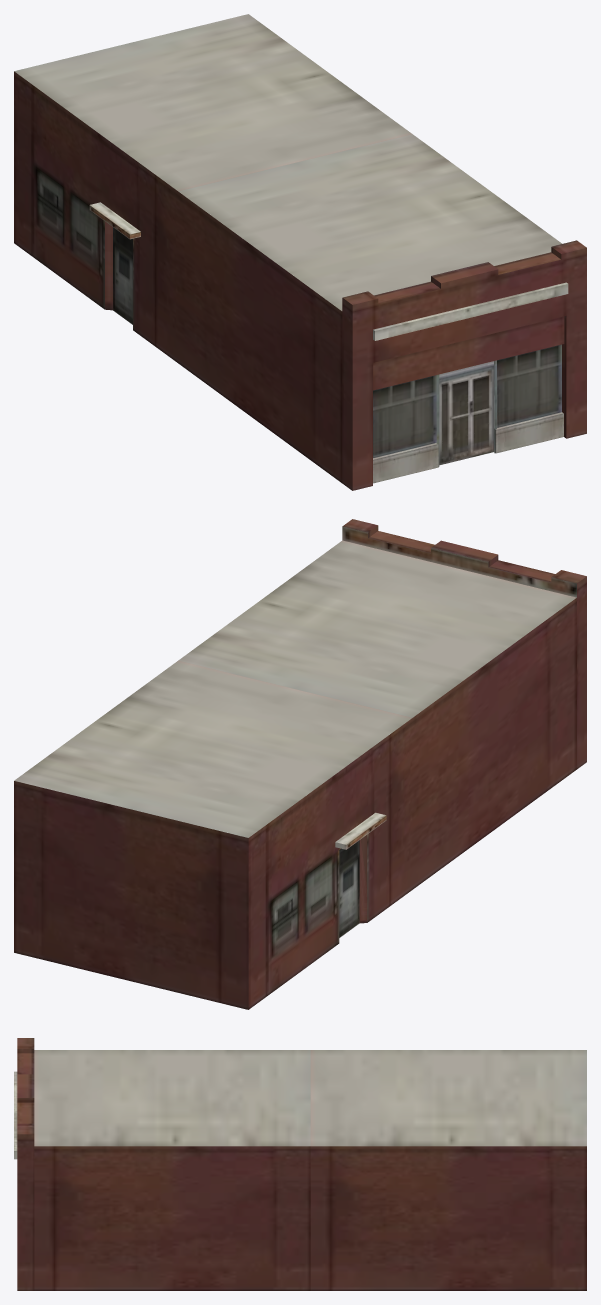
File: rural-store-5.lod1.glb
The picture shows the model from 3 angles, top to bottom: view 1: azimuth 30°, elevation 25°; view 2: azimuth 150°, elevation 25°; view 3: azimuth 270°, elevation 25°; orthographic projection. The views are drawn at different scales.
Parts seen in each view (by area): view 1: Rural_StoreSmall_5_Rural_Facade_FLR_2_0, Rural_StoreSmall_5_Rural_Brownstone_Facade_Flr_6_0; view 2: Rural_StoreSmall_5_Rural_Brownstone_Facade_Flr_6_0, Rural_StoreSmall_5_Rural_Facade_FLR_2_0; view 3: Rural_StoreSmall_5_Rural_Brownstone_Facade_Flr_6_0, Rural_StoreSmall_5_Rural_Facade_FLR_2_0.
Part boxes in pixels (x1,y1,x2,y2): Rural_StoreSmall_5_Rural_Facade_FLR_2_0: (14,14,568,483); Rural_StoreSmall_5_Rural_Brownstone_Facade_Flr_6_0: (14,71,586,490); Rural_StoreSmall_5_Rural_Brownstone_Facade_Flr_6_0: (14,519,586,1009); Rural_StoreSmall_5_Rural_Facade_FLR_2_0: (14,526,576,937); Rural_StoreSmall_5_Rural_Brownstone_Facade_Flr_6_0: (17,1038,586,1290); Rural_StoreSmall_5_Rural_Facade_FLR_2_0: (14,1050,586,1159).
Bounding box in the file's own units: 8.38 × 6.06 × 20.12.
Materials: 2 (2 with a texture image).
